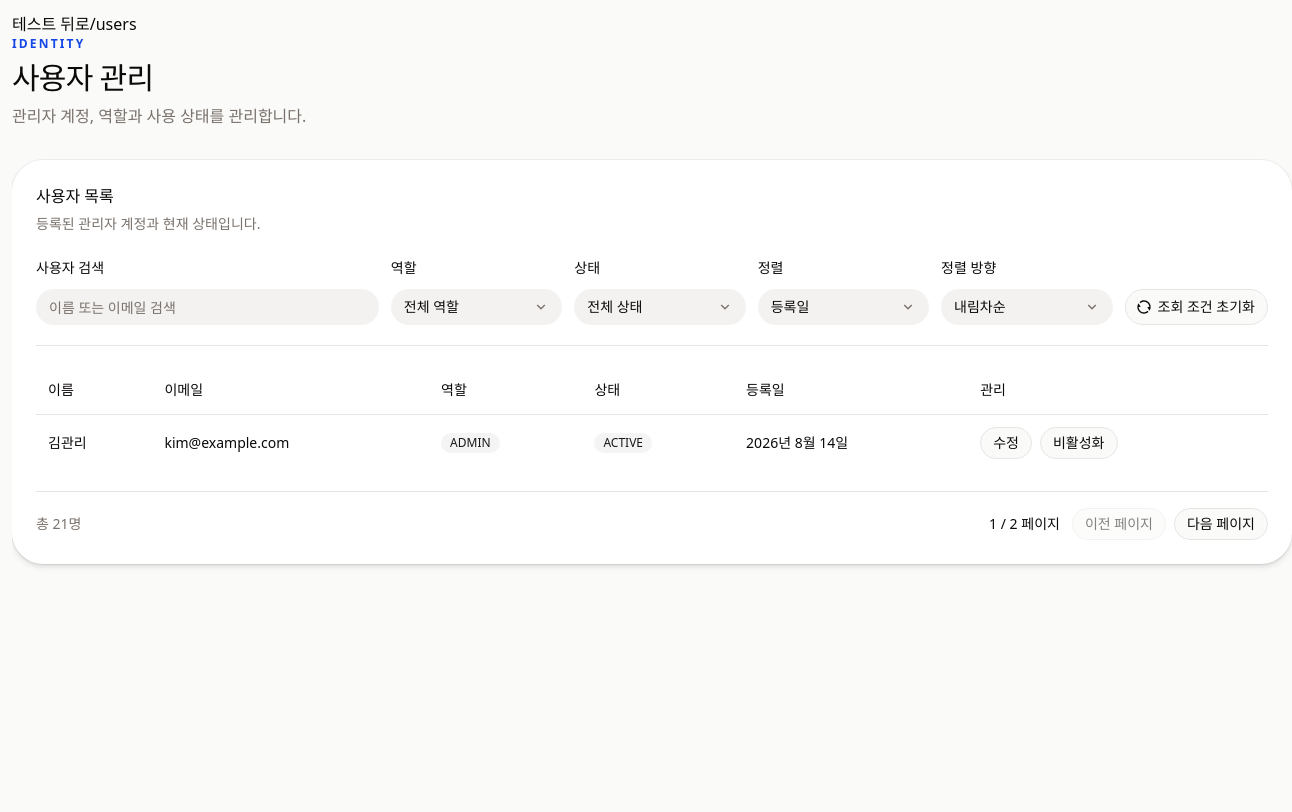
Scenario: 사용자 조회 결과 › 이전·다음 페이지를 URL로 이동하고 경계 버튼을 비활성화한다
Check: the button "이전 페이지" is disabled, box [1072,508,1166,540]
Click the button "다음 페이지": x=1221, y=524 [1174,508,1268,540]
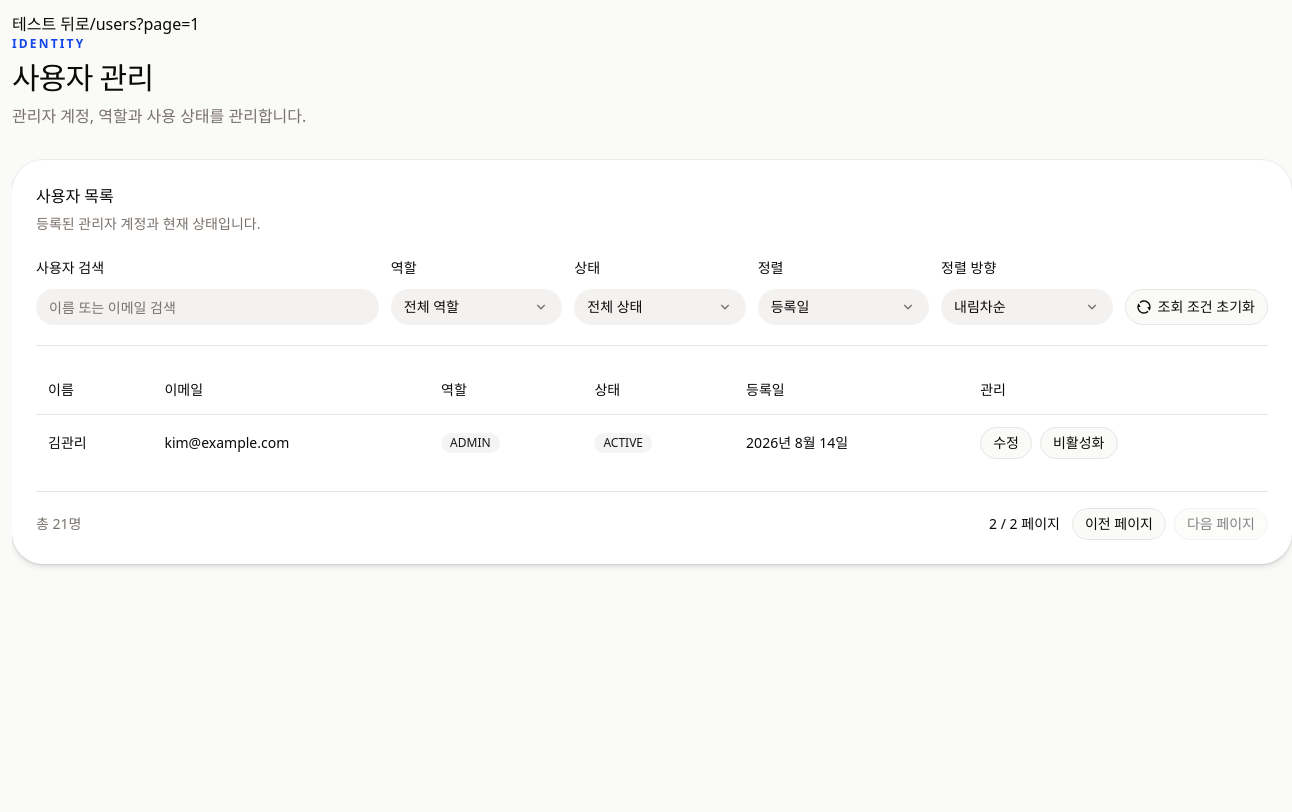
Check: the text with test id "location" shows "page=1", box [90,13,200,35]
Check: the text "2 / 2 페이지" is shown, box [989,514,1060,534]
Check: the button "이전 페이지" is enabled, box [1072,508,1166,540]
